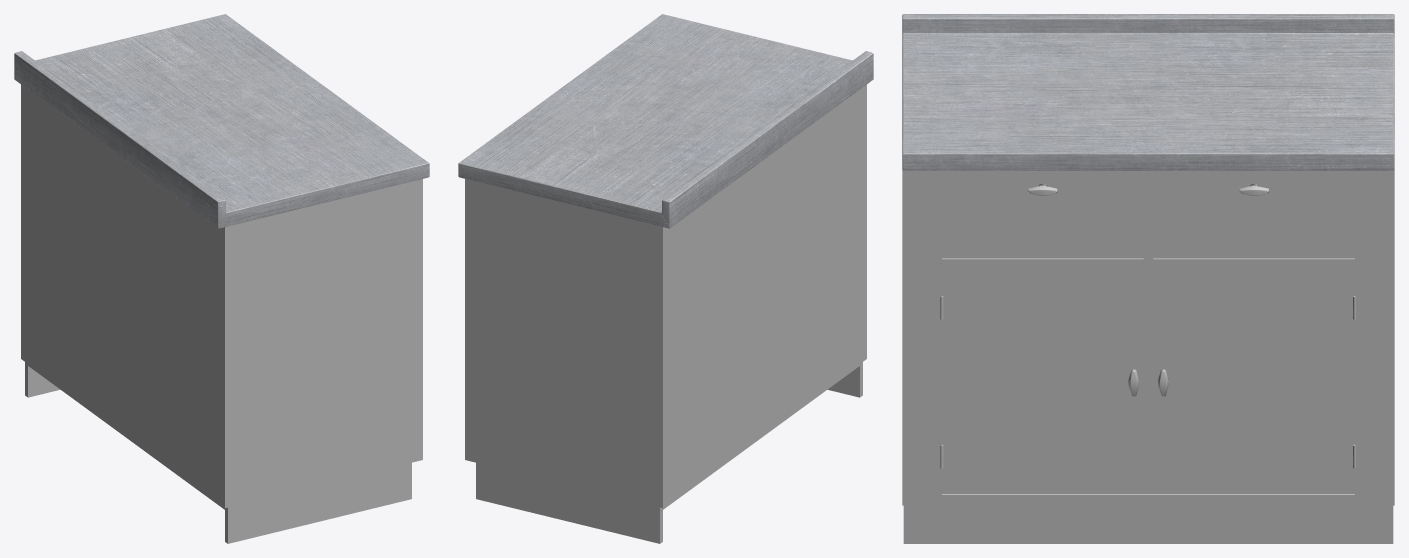
File: SM_KitchenCounterB.FBX
3 renders of one model, left to right at view 1: azimuth 30°, elevation 25°; view 2: azimuth 150°, elevation 25°; view 3: azimuth 270°, elevation 25°, orthographic. The views are drawn at different scales.
Visible parts, largest first — view 1: SM_KitchenCounterB; view 2: SM_KitchenCounterB; view 3: SM_KitchenCounterB.
Boxes of the visible parts, x1,y1,x2,y2 form: SM_KitchenCounterB: [14, 14, 429, 543]; SM_KitchenCounterB: [458, 14, 873, 543]; SM_KitchenCounterB: [902, 14, 1394, 543].
Size of the model in its own units: 60 by 93.24 by 100.
